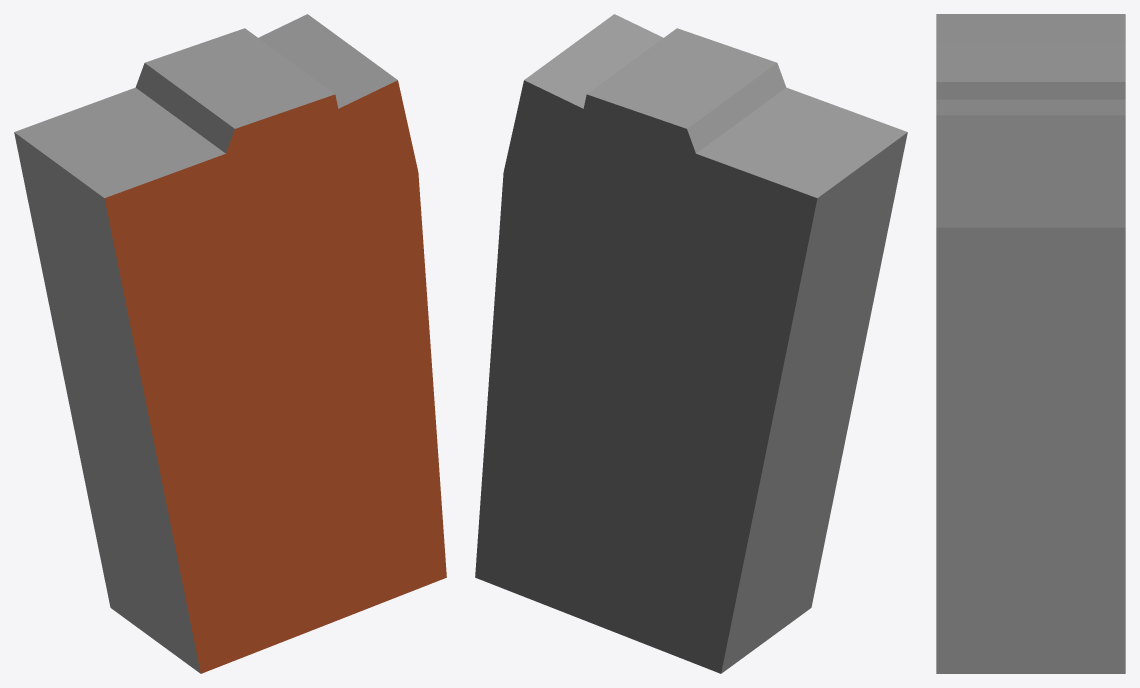
Rendered from construction_5961_assumed_A_Casa_h6m.obj.
3 views of the same model, side by side, from view 1: azimuth 30°, elevation 25°; view 2: azimuth 150°, elevation 25°; view 3: azimuth 270°, elevation 25° (orthographic). The views are drawn at different scales.
Visible parts, largest first — view 1: construction_5961_assumed_A_Casa; view 2: construction_5961_assumed_A_Casa; view 3: construction_5961_assumed_A_Casa.
Part boxes in pixels (x1,y1,x2,y2): construction_5961_assumed_A_Casa: (14,14,446,673); construction_5961_assumed_A_Casa: (475,14,907,673); construction_5961_assumed_A_Casa: (936,14,1125,673).
Size of the model in its own units: 13.12 by 20.02 by 6.
